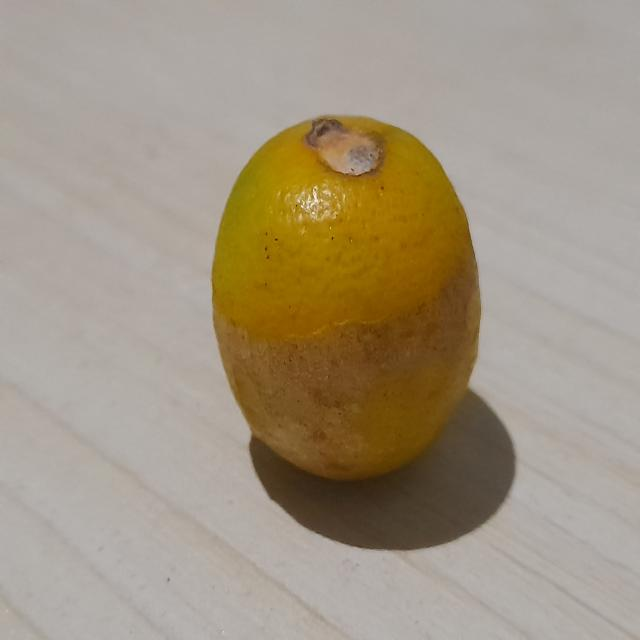greening: (203, 115, 505, 503)
